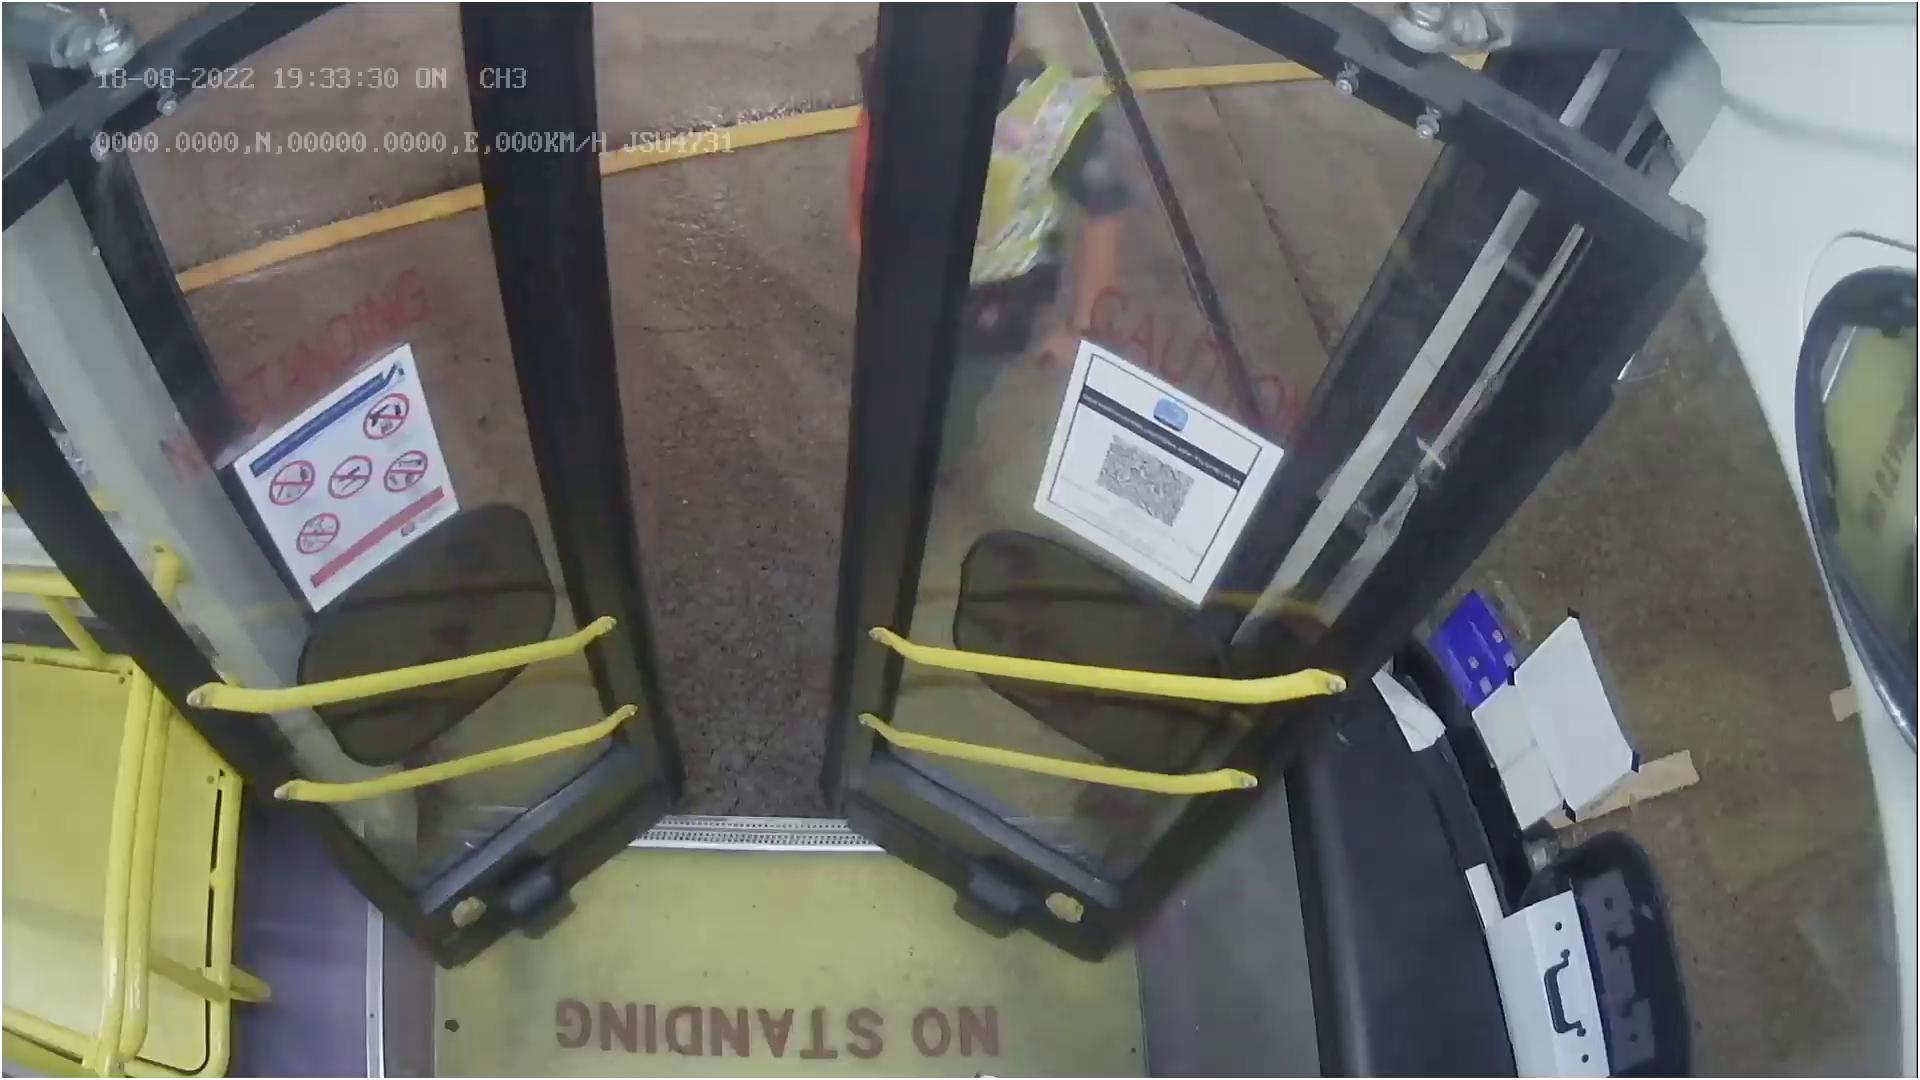open: (119, 0, 1451, 198)
